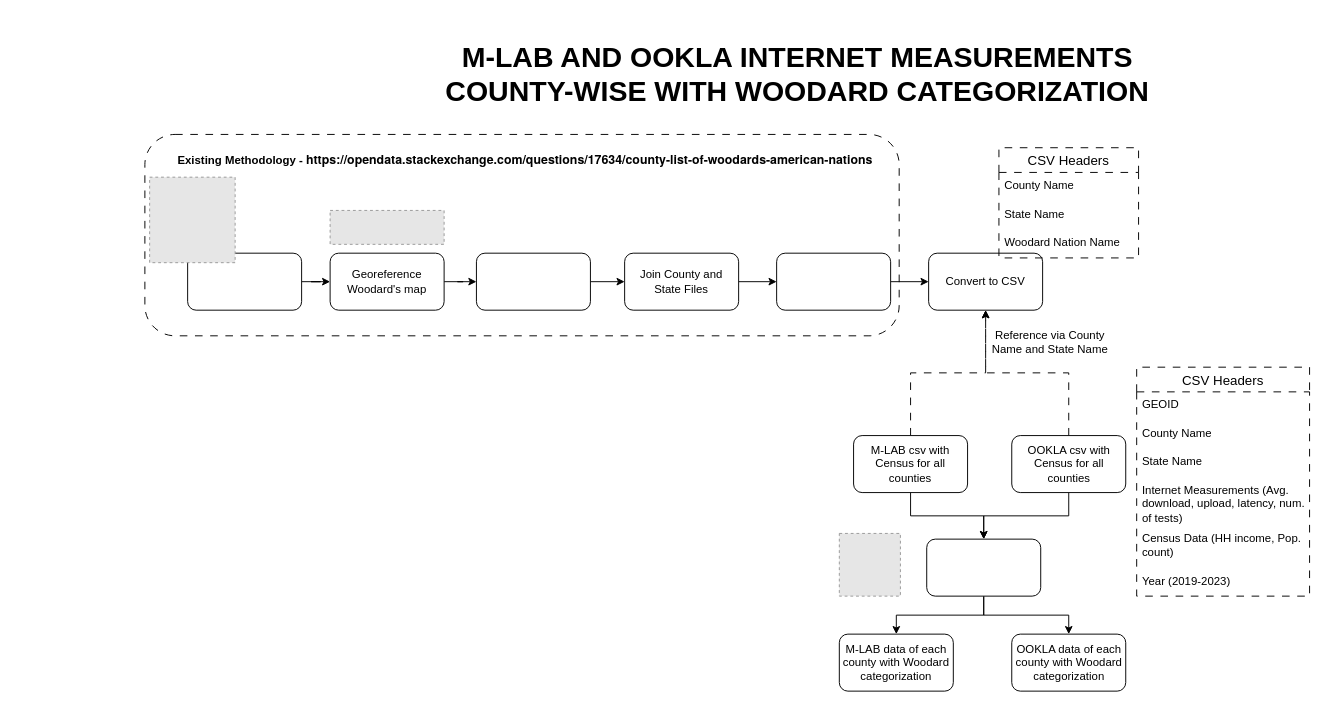
The diagram is 1326 pixels wide and 708 high, and some of its shapes have lost their labels. Grey dashed boxes stand in for pictures. The centre of each missing label's shape, as x and y in pixels:
"Export Combined Table" goes at pixel 833 281.
"Script to combine all data" goes at pixel 983 567.
"Select and Categorize Counties" goes at pixel 532 281.
"US County Polygons Shapefile" goes at pixel 244 281.
